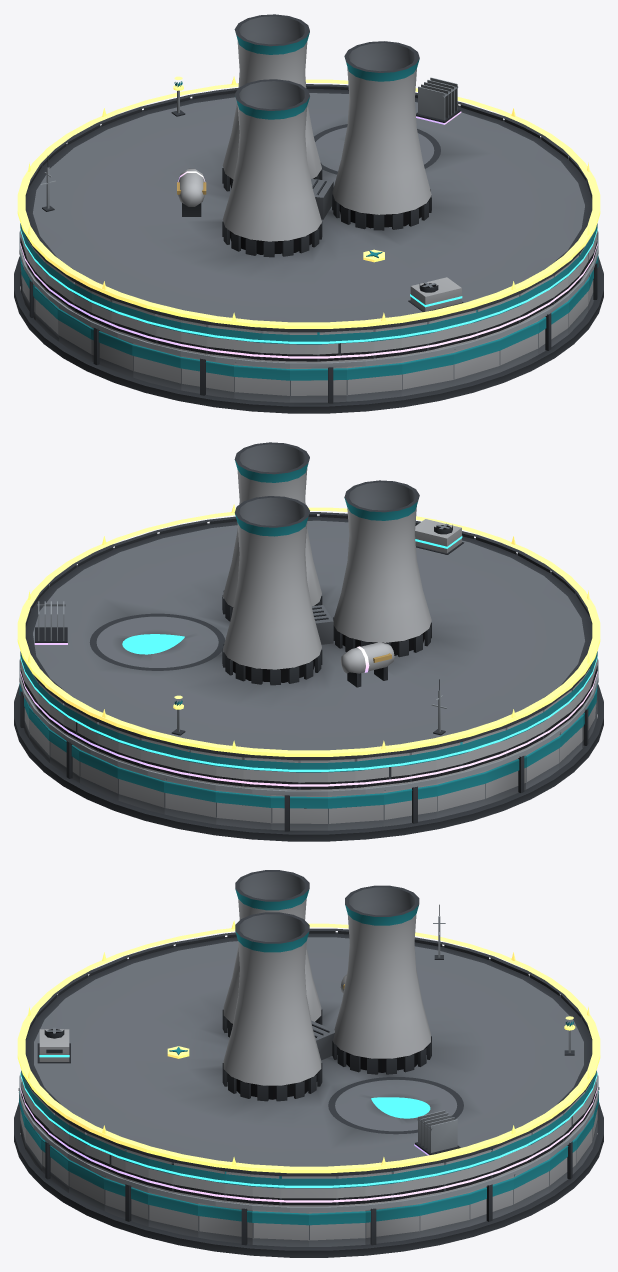
File: atmo_processor_l_far.glb
The picture shows the model from 3 angles, top to bottom: view 1: azimuth 30°, elevation 25°; view 2: azimuth 150°, elevation 25°; view 3: azimuth 270°, elevation 25°; orthographic projection.
Parts seen in each view (by area): view 1: Roof, Base, L5, L4, L2, L3; view 2: Roof, Base, L5, L4, L2, L3; view 3: Roof, Base, L5, L2, L4, L3.
Part boxes in pixels (left/top/right/bottom): Roof: left=20, top=14, right=597, bottom=362; Base: left=14, top=239, right=603, bottom=413; L5: left=17, top=76, right=600, bottom=328; L4: left=20, top=77, right=597, bottom=358; L2: left=19, top=156, right=598, bottom=367; L3: left=20, top=228, right=597, bottom=343; Roof: left=20, top=442, right=597, bottom=790; Base: left=14, top=667, right=603, bottom=841; L5: left=17, top=504, right=600, bottom=756; L4: left=20, top=601, right=597, bottom=786; L2: left=19, top=658, right=598, bottom=795; L3: left=20, top=519, right=597, bottom=771; Roof: left=21, top=870, right=596, bottom=1206; Base: left=14, top=1082, right=603, bottom=1257; L5: left=17, top=920, right=600, bottom=1173; L2: left=19, top=904, right=598, bottom=1212; L4: left=20, top=974, right=597, bottom=1202; L3: left=20, top=1027, right=597, bottom=1187.
Bounding box in the file's own units: 18.96 × 8.22 × 18.96.
